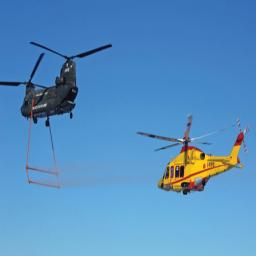helicopter: (1, 41, 115, 123), (138, 115, 252, 195)
